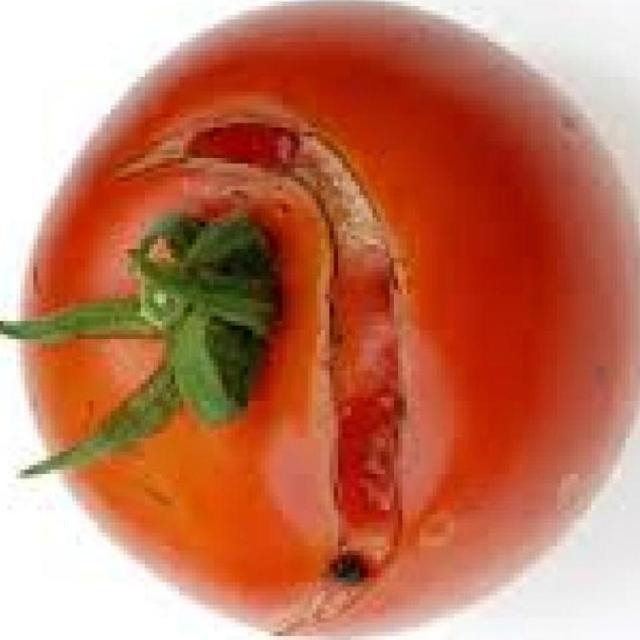Cracking Fruit: (68, 51, 288, 420)
